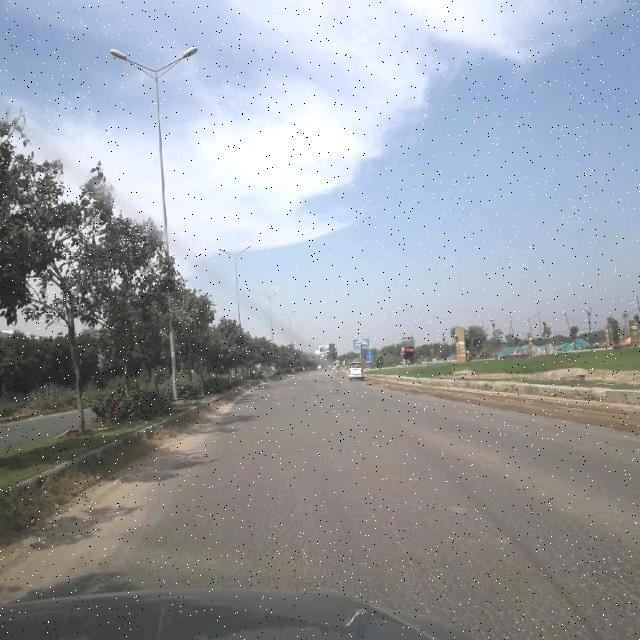D20: (95, 504, 448, 591), (453, 476, 640, 636)
